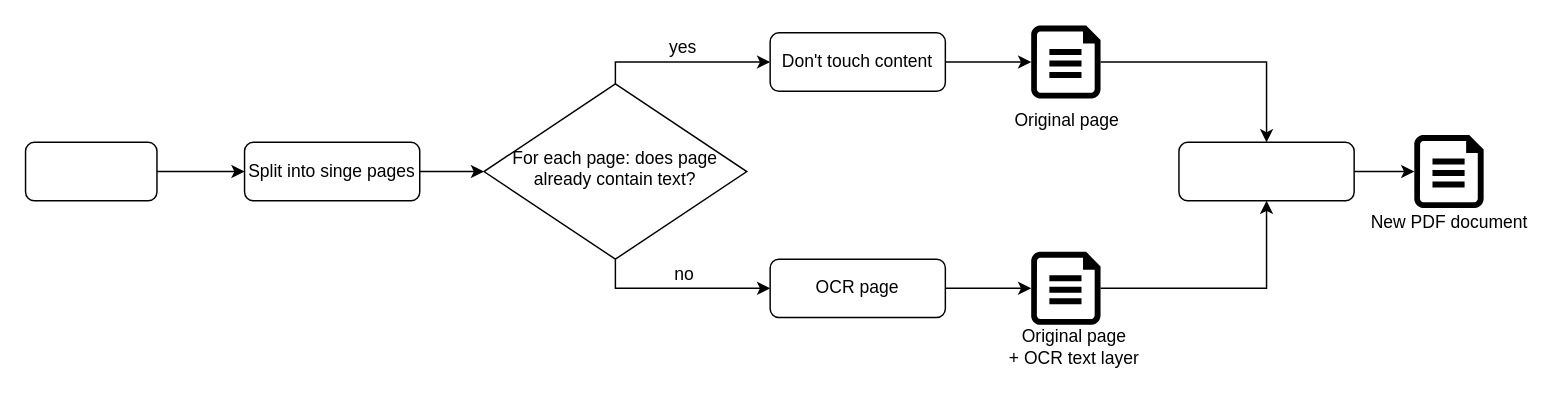
This 1562x393 diagram has some shape labels left out. Each missing label, with the box of its shape:
Merge all pages: (1177, 141, 1354, 201)
Process PDF: (24, 141, 157, 201)
